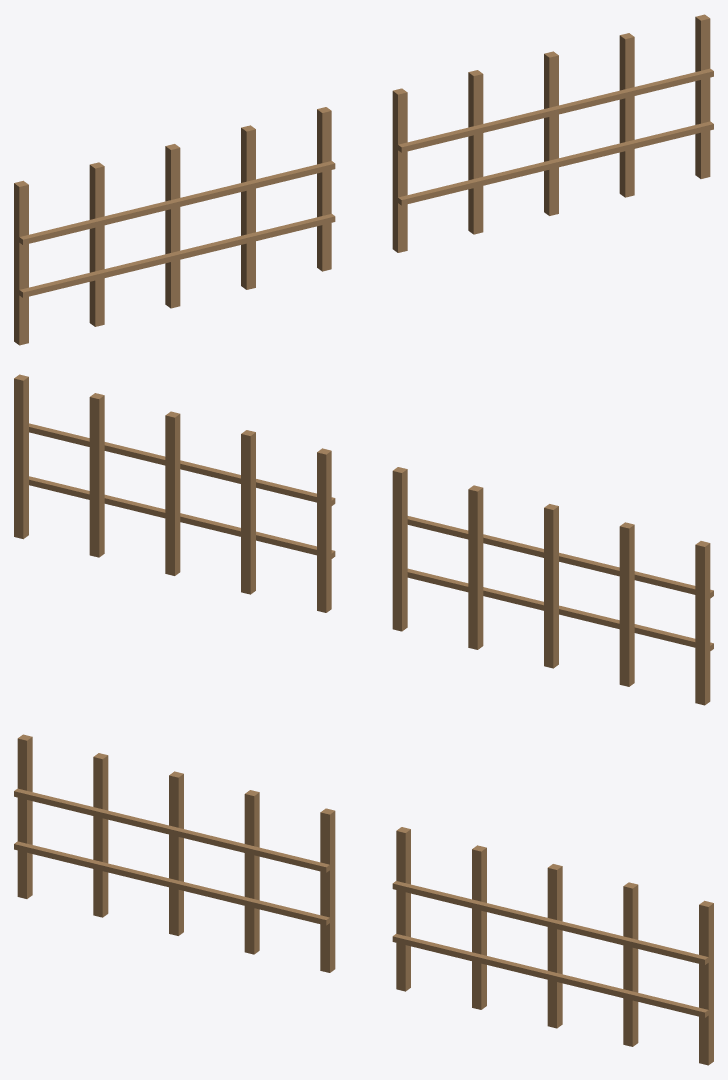
File: assembly.glb
3 renders of one model, top to bottom at view 1: azimuth 30°, elevation 25°; view 2: azimuth 150°, elevation 25°; view 3: azimuth 330°, elevation 25°, orthographic.
Parts seen in each view (by area): view 1: U01_Rail_001, U01_Rail_002, U02_Rail_001, U02_Rail_002, U02_Post_001, U02_Post_005, U02_Post_004, U01_Post_002, U01_Post_003, U02_Post_002, U01_Post_001, U01_Post_004 (+2 smaller); view 2: U01_Post_002, U01_Post_001, U01_Post_004, U01_Post_005, U02_Post_003, U02_Post_004, U02_Post_005, U01_Post_003, U02_Post_001, U02_Post_002, U01_Rail_002, U01_Rail_001 (+2 smaller); view 3: U02_Rail_001, U02_Rail_002, U01_Rail_001, U01_Rail_002, U01_Post_005, U01_Post_001, U01_Post_002, U01_Post_004, U02_Post_003, U02_Post_004, U02_Post_005, U02_Post_002 (+2 smaller).
Boxes of the visible parts, bbox=[...] form: U01_Rail_001: bbox=[19, 213, 335, 297]; U01_Rail_002: bbox=[19, 161, 335, 245]; U02_Rail_001: bbox=[398, 121, 713, 205]; U02_Rail_002: bbox=[398, 68, 713, 152]; U02_Post_001: bbox=[392, 88, 407, 252]; U02_Post_005: bbox=[695, 14, 710, 178]; U02_Post_004: bbox=[619, 33, 634, 197]; U01_Post_002: bbox=[89, 162, 104, 326]; U01_Post_003: bbox=[165, 144, 180, 308]; U02_Post_002: bbox=[468, 70, 483, 234]; U01_Post_001: bbox=[14, 180, 28, 345]; U01_Post_004: bbox=[241, 125, 255, 289]; U01_Post_002: bbox=[619, 522, 634, 686]; U01_Post_001: bbox=[695, 541, 710, 705]; U01_Post_004: bbox=[468, 485, 483, 649]; U01_Post_005: bbox=[392, 467, 407, 631]; U02_Post_003: bbox=[165, 411, 180, 575]; U02_Post_004: bbox=[89, 393, 104, 557]; U02_Post_005: bbox=[14, 374, 28, 539]; U01_Post_003: bbox=[544, 504, 558, 668]; U02_Post_001: bbox=[317, 448, 331, 612]; U02_Post_002: bbox=[241, 430, 255, 594]; U01_Rail_002: bbox=[407, 516, 713, 598]; U01_Rail_001: bbox=[407, 568, 713, 650]; U02_Rail_001: bbox=[392, 933, 708, 1017]; U02_Rail_002: bbox=[392, 881, 708, 965]; U01_Rail_001: bbox=[14, 841, 329, 925]; U01_Rail_002: bbox=[14, 788, 329, 872]; U01_Post_005: bbox=[320, 808, 335, 972]; U01_Post_001: bbox=[17, 734, 32, 898]; U01_Post_002: bbox=[93, 753, 108, 917]; U01_Post_004: bbox=[244, 790, 259, 954]; U02_Post_003: bbox=[547, 864, 562, 1028]; U02_Post_004: bbox=[623, 882, 638, 1046]; U02_Post_005: bbox=[699, 900, 713, 1065]; U02_Post_002: bbox=[472, 845, 486, 1009].
Bounding box in the file's own units: 10.95 × 2.4 × 0.249.
